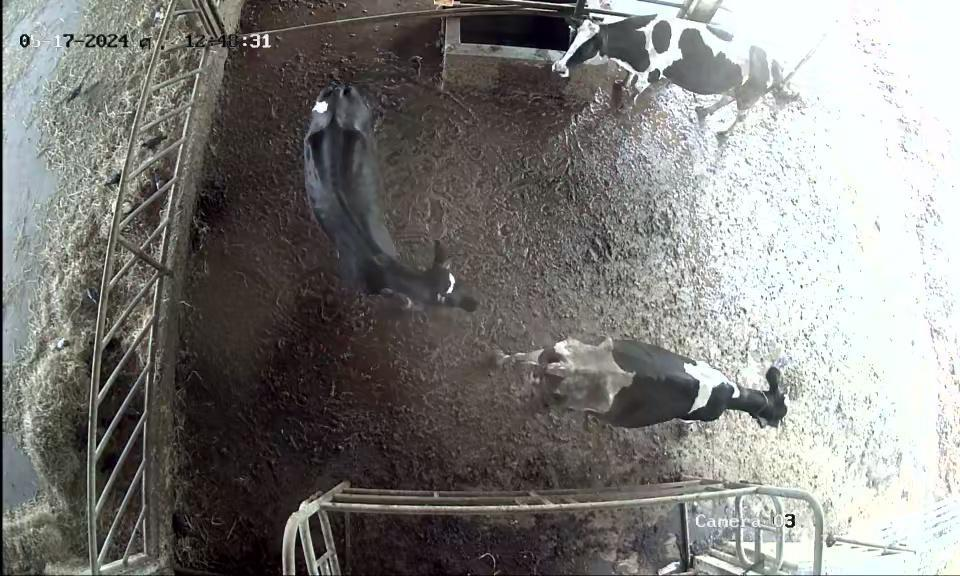stand: (291, 73, 485, 338), (505, 304, 800, 450), (546, 5, 775, 152)
